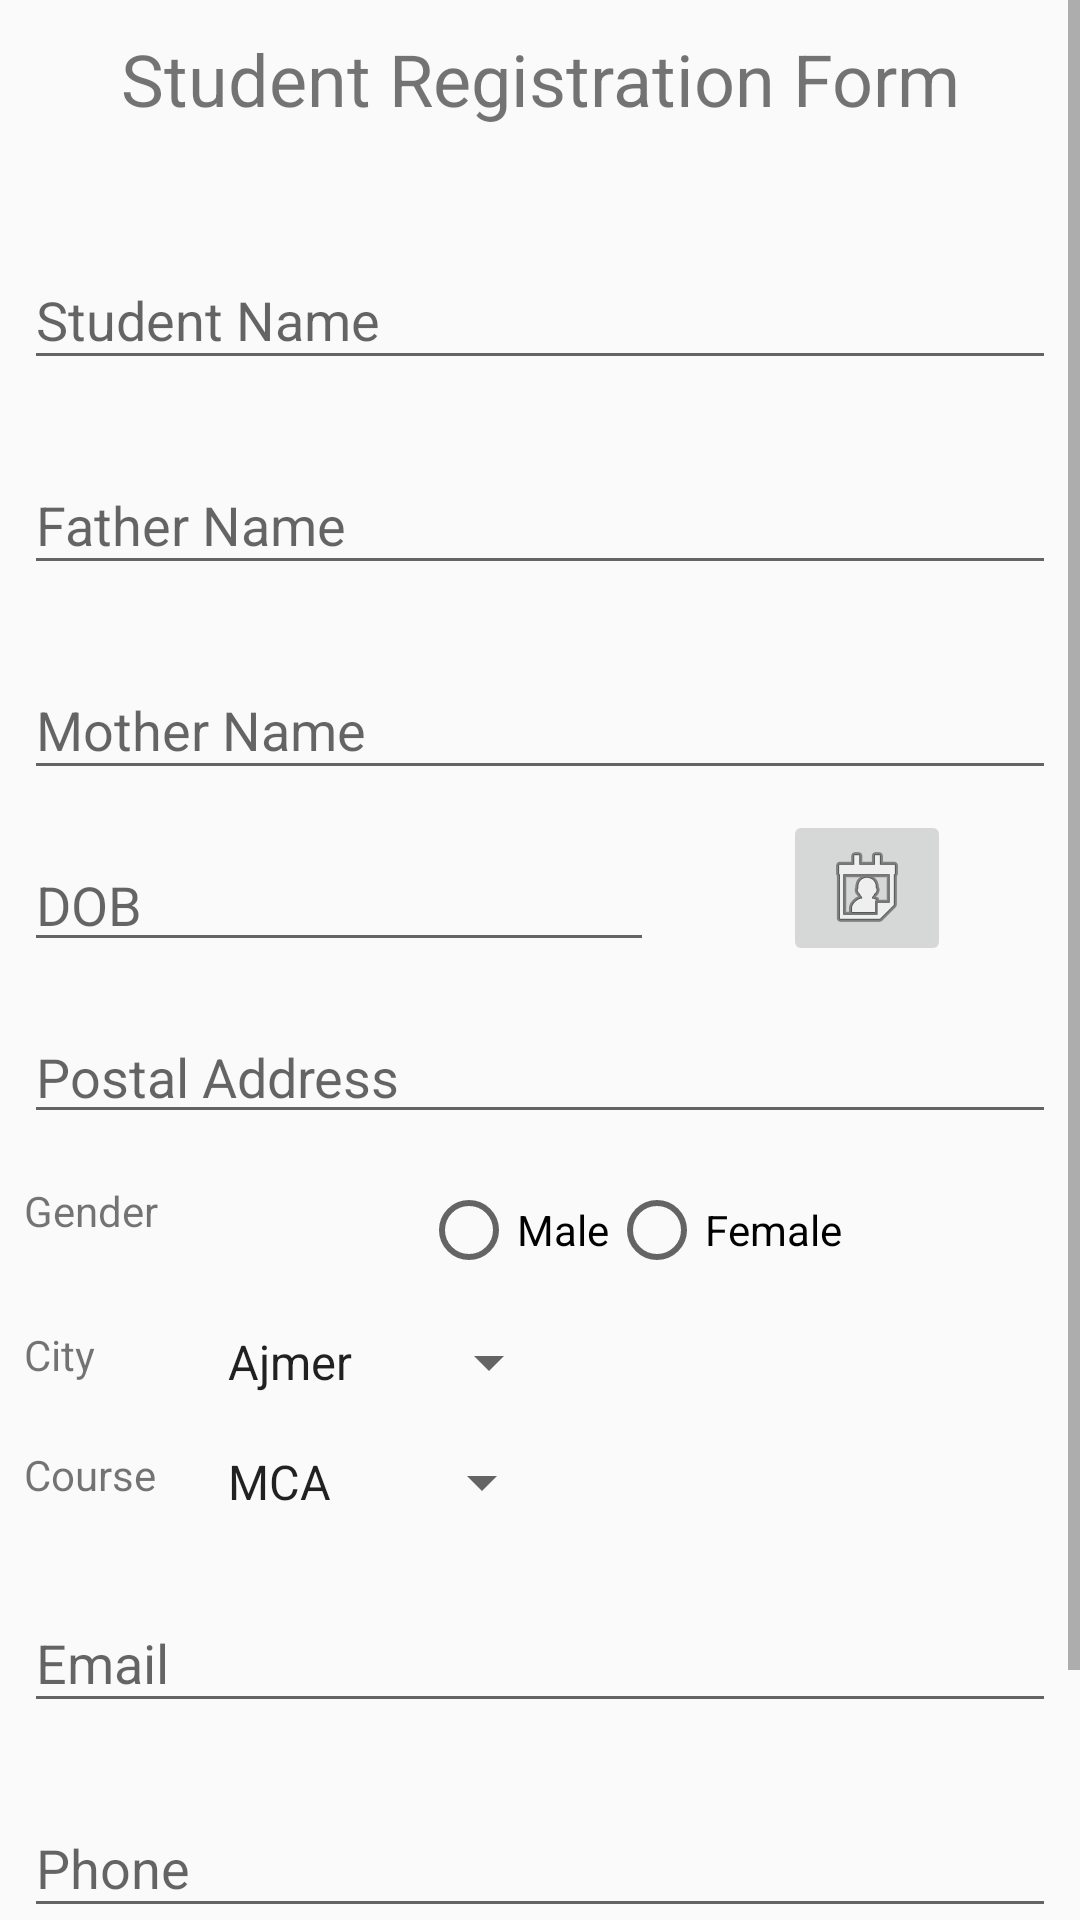

Named icons in this screenshot (1080px×1920px) and their bounding boxes, (left=x1, top=y1, right=x2, bottom=y2):
calendar: (left=795, top=828, right=939, bottom=948)
